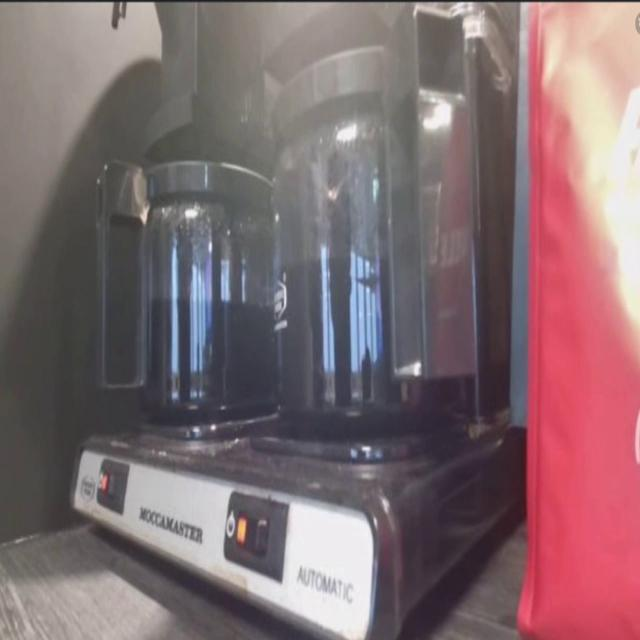coffee: (277, 150, 443, 428), (143, 216, 267, 420)
